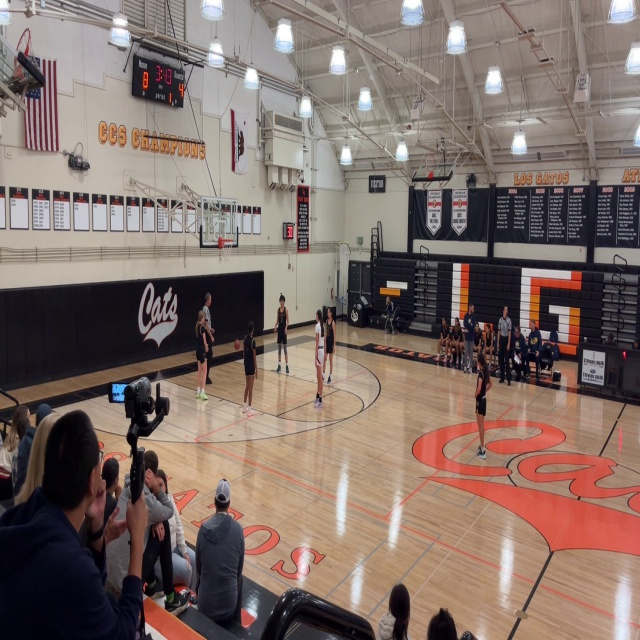Basketball: (234, 339, 242, 351)
